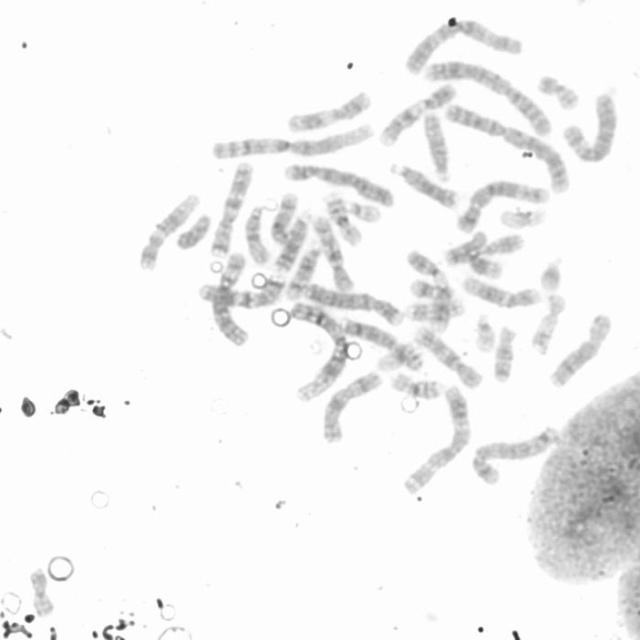A1: (212, 121, 376, 161), (288, 300, 348, 404)
A2: (444, 103, 571, 196), (424, 60, 553, 139)
A3: (403, 383, 472, 496), (402, 18, 524, 77)
B4: (282, 162, 396, 207), (303, 281, 404, 329)
B5: (470, 425, 560, 487), (456, 180, 552, 234)
C10: (412, 325, 486, 391), (310, 213, 356, 293)
C11: (285, 90, 370, 134), (466, 230, 527, 278)
C12: (137, 193, 200, 272), (460, 274, 542, 311)
C6: (562, 93, 620, 164), (210, 251, 252, 348)
C7: (209, 162, 254, 259), (195, 271, 286, 311)
C8: (547, 312, 613, 390), (338, 316, 425, 372)
C9: (377, 82, 458, 148), (405, 248, 453, 334)
D13: (386, 162, 459, 209), (272, 208, 314, 273)
D14: (284, 242, 322, 302), (267, 191, 299, 248)
D15: (420, 112, 453, 184), (242, 205, 272, 267)
E16: (323, 191, 363, 248), (391, 371, 445, 400)
E17: (530, 293, 566, 357), (404, 296, 466, 322)
E18: (443, 229, 489, 267), (490, 326, 519, 382)
F19: (375, 339, 419, 374), (499, 204, 549, 232)
F20: (537, 73, 582, 111), (28, 568, 56, 618)
G21: (538, 256, 565, 294), (408, 277, 442, 301)
G22: (474, 313, 497, 354), (345, 200, 384, 224)
X: (322, 370, 383, 446)
Y: (174, 213, 213, 252)
